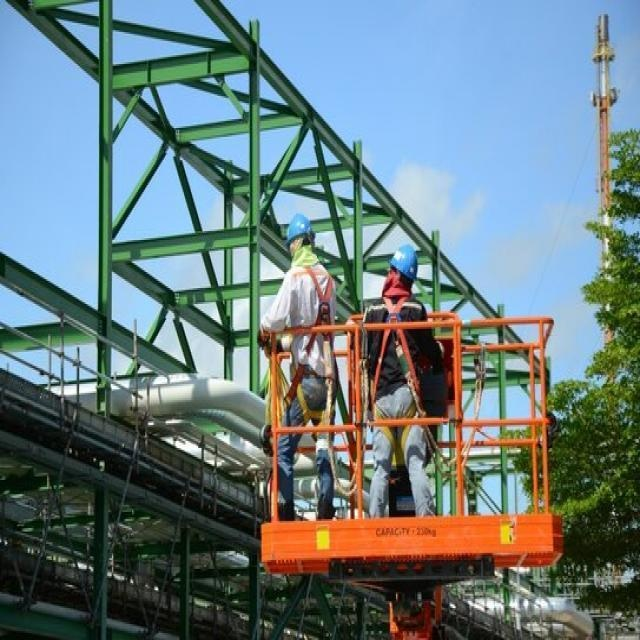Arnes_seguridad: (369, 298, 418, 458), (295, 264, 337, 421)
